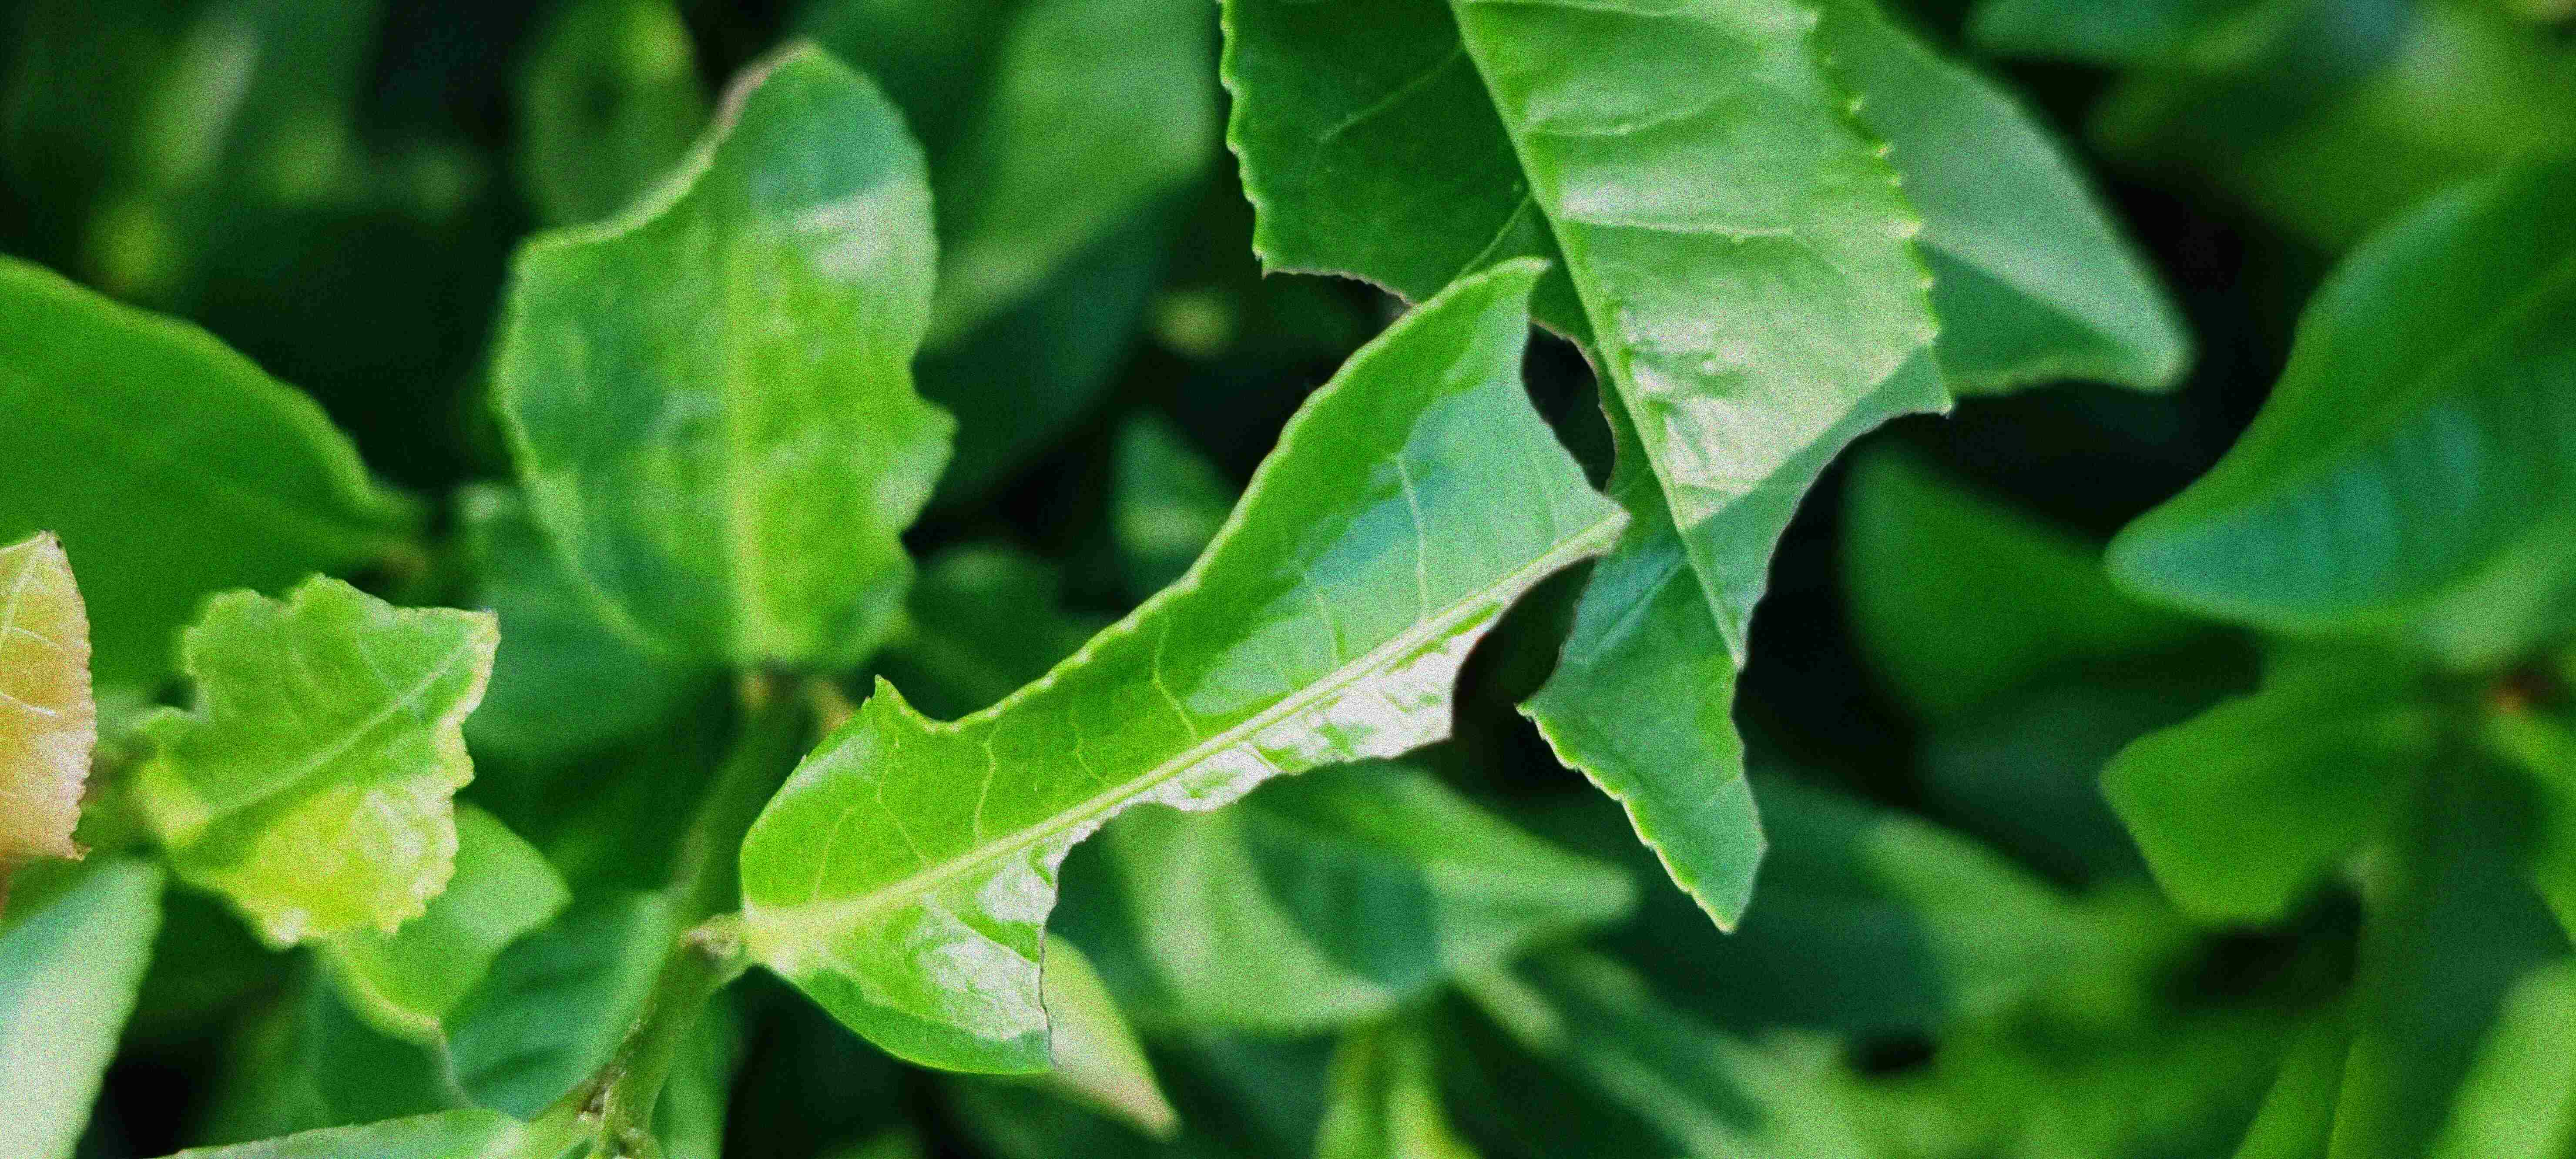chihuo_high: (733, 250, 1635, 1083), (1219, 5, 1963, 934), (128, 563, 503, 954)
healthy: (481, 34, 959, 675), (2093, 135, 2574, 637)
tanju_low: (0, 529, 103, 895)
